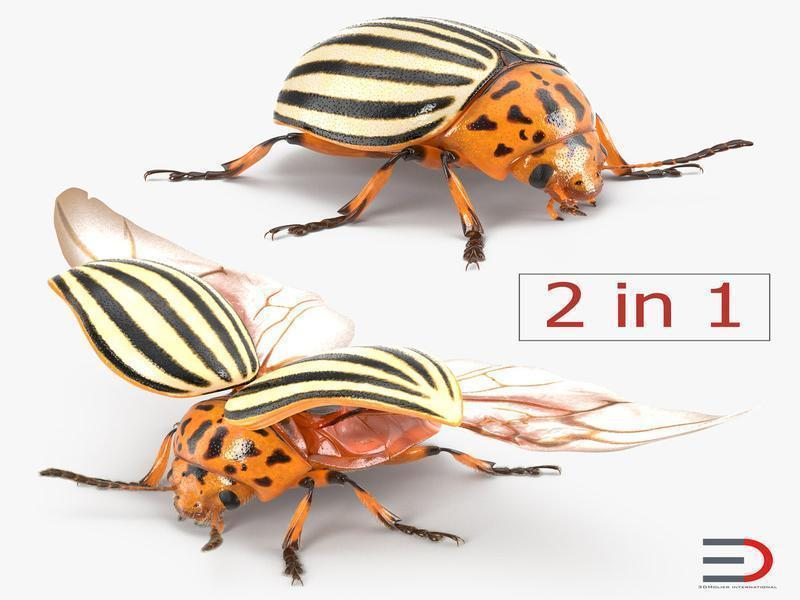hrosc: (259, 8, 673, 235)
